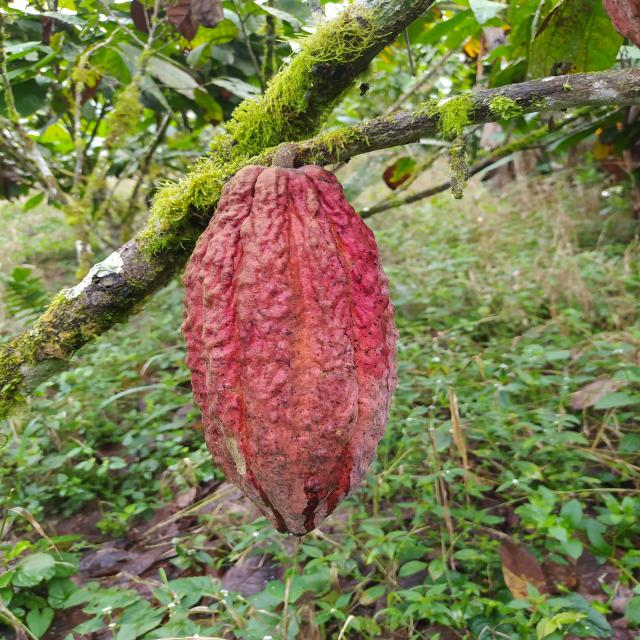Sana: (180, 162, 399, 536)
